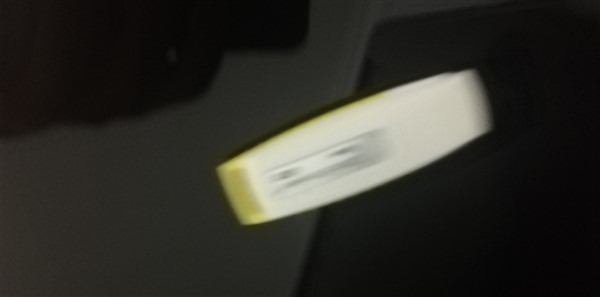flash disk: (204, 61, 497, 231)
